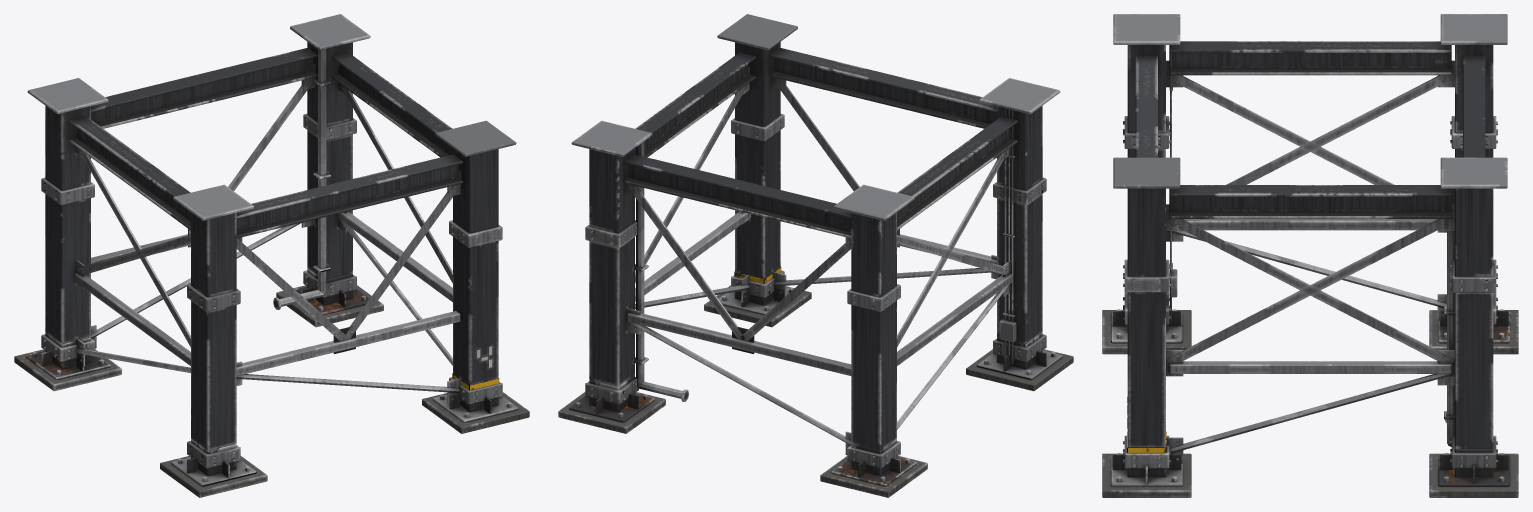
Rendered from nodexeus-set-legs-4.glb.
3 views of the same model, side by side, from view 1: azimuth 30°, elevation 25°; view 2: azimuth 150°, elevation 25°; view 3: azimuth 270°, elevation 25° (orthographic). The views are drawn at different scales.
Parts seen in each view (by area): view 1: set-legs-4; view 2: set-legs-4; view 3: set-legs-4.
Boxes of the visible parts, box(x1,y1,x2,y2) form: set-legs-4: box(14, 14, 529, 497); set-legs-4: box(558, 14, 1073, 497); set-legs-4: box(1102, 14, 1518, 497).
Bounding box in the file's own units: 6.82 × 5.4 × 6.62.
1 material, 1 textured.
